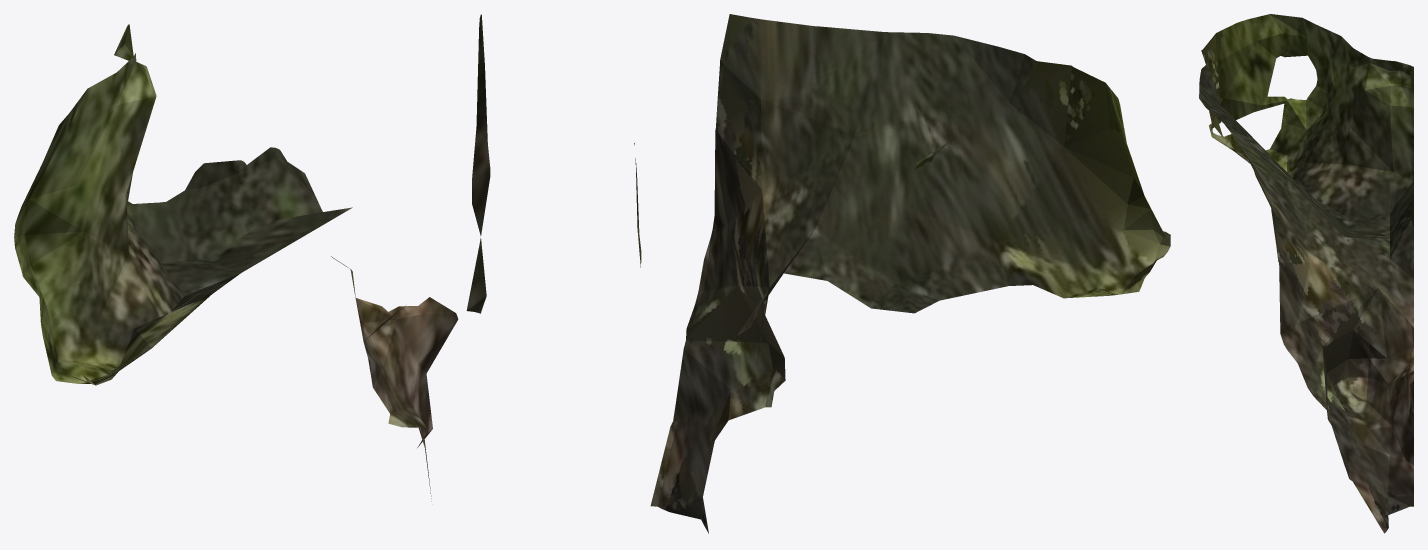
3 views of the same model, side by side, from view 1: azimuth 30°, elevation 25°; view 2: azimuth 150°, elevation 25°; view 3: azimuth 270°, elevation 25° (orthographic). The views are drawn at different scales.
Size of the model in its own units: 2.95 by 2.95 by 1.59.
Materials: 3 (3 with a texture image).
